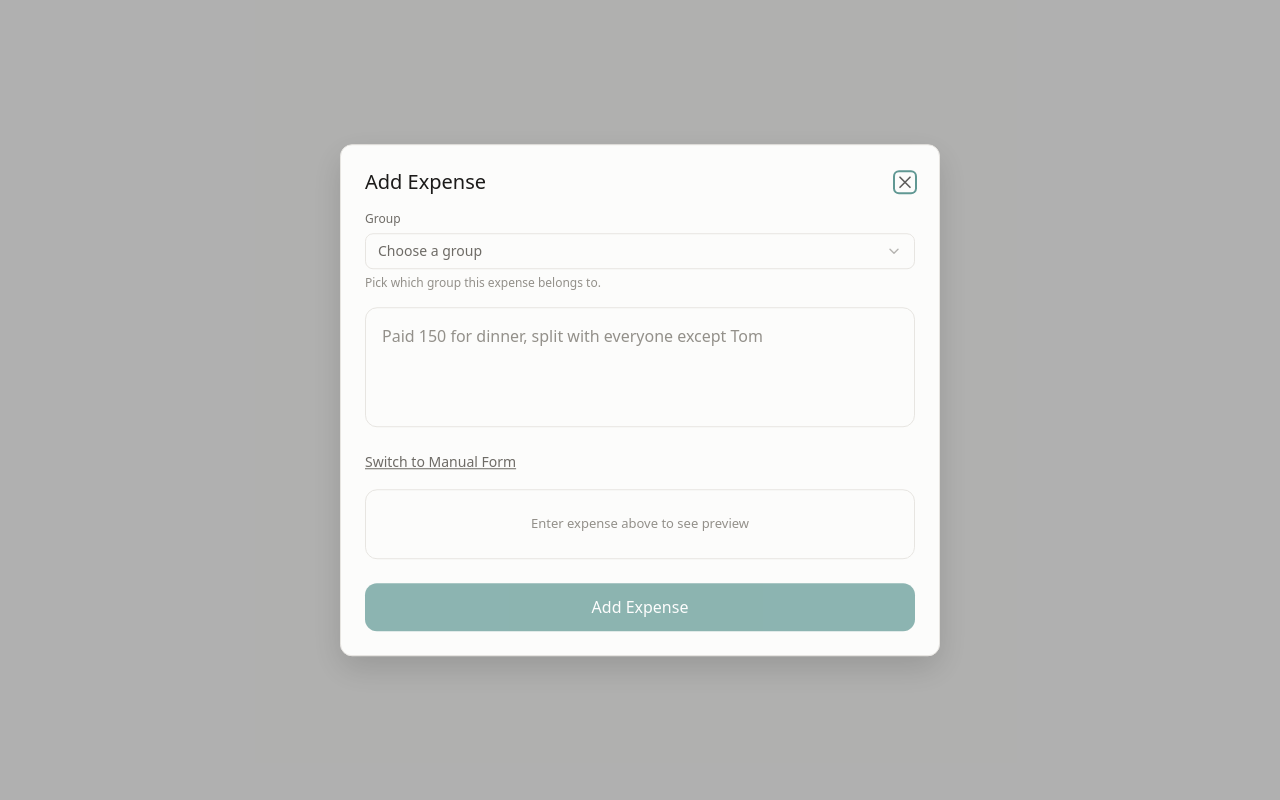
Test: SmartInputModal › Manual Form Toggle (AC #4) › switches to manual form when fallback button is clicked
The width and height of the screenshot is (1280, 800).
Click the button "Switch to Manual Form" at (441, 462), box [365,452,516,472]
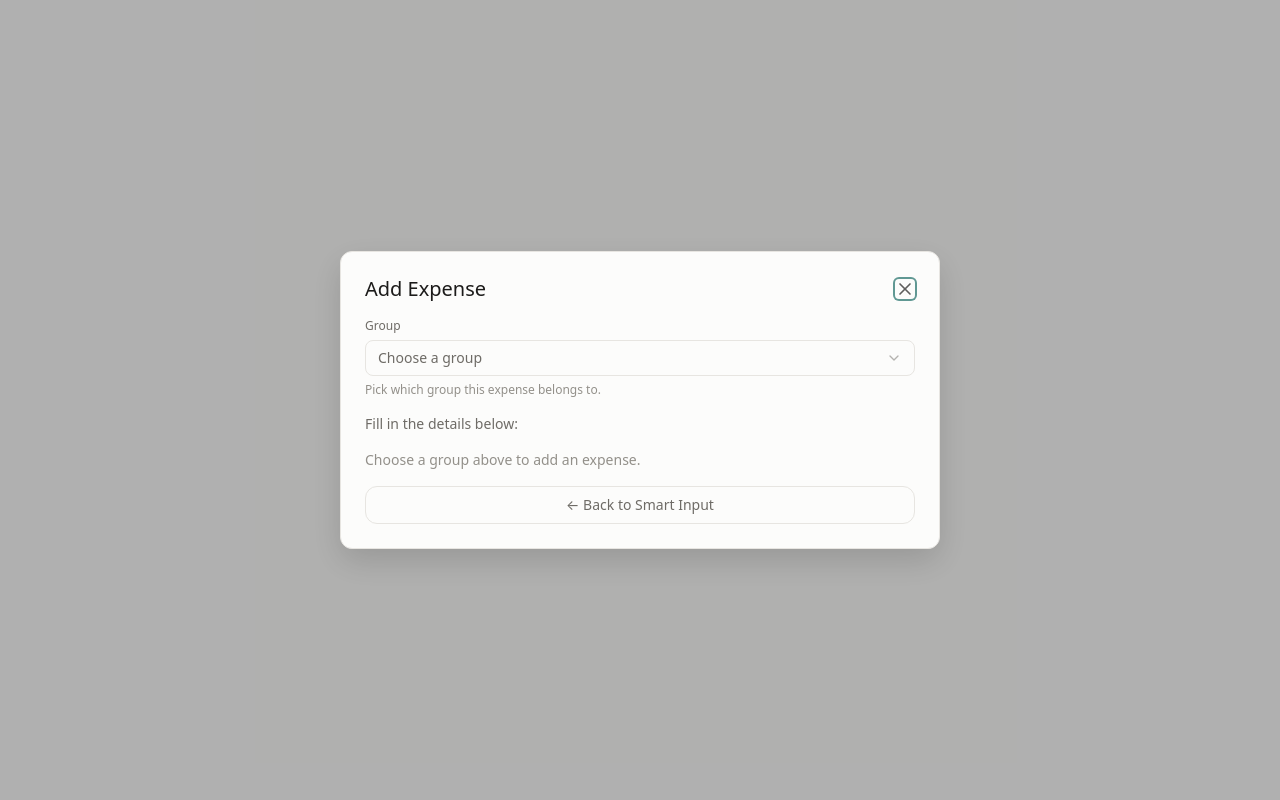
Expected: the text "Fill in the details below:" is shown, [365,414,518,433]
Expected: the button "← Back to Smart Input" is shown, [365,486,915,524]
